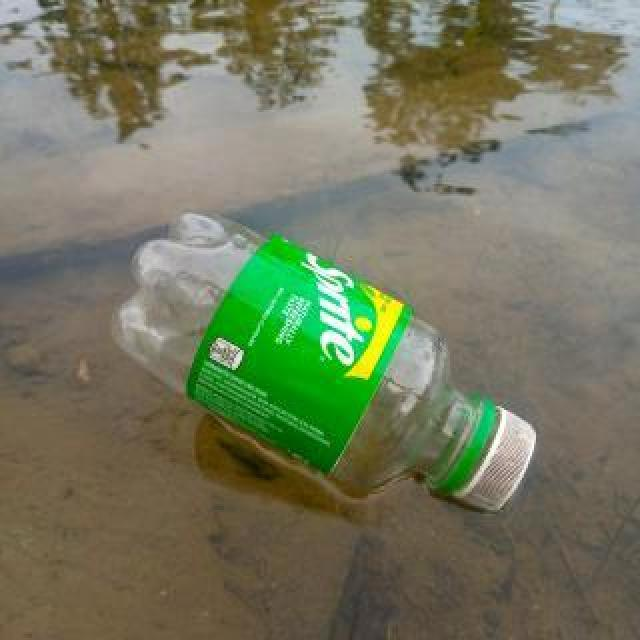bottle: (106, 205, 538, 515)
